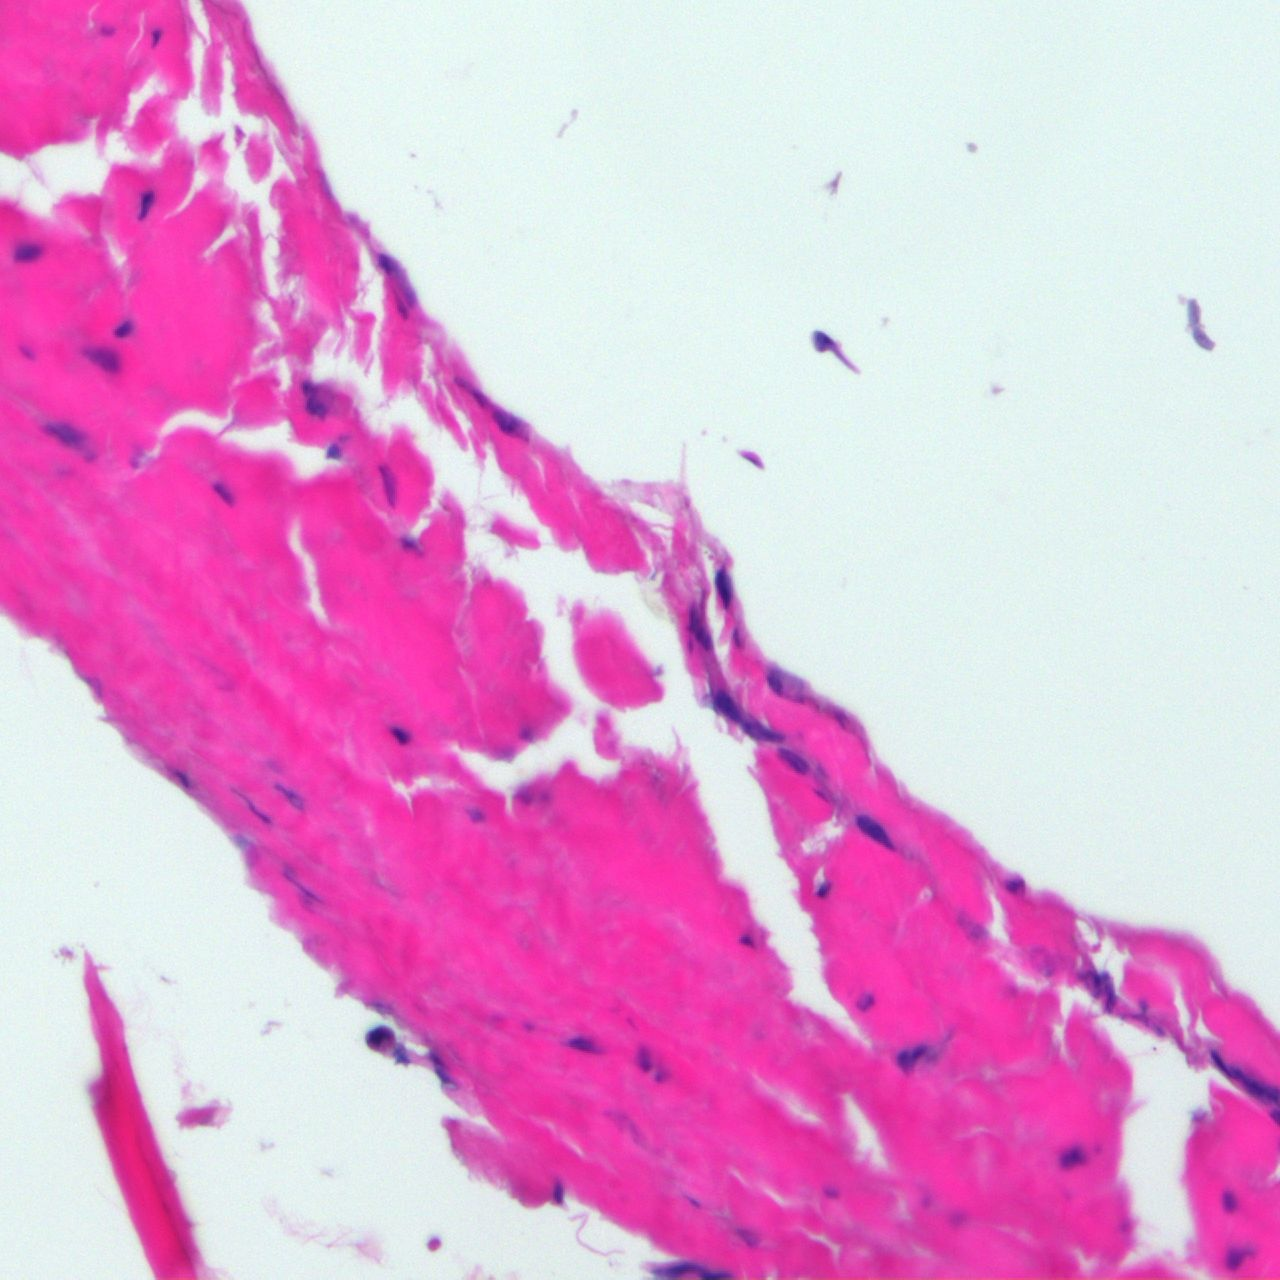nucleus-HE: (35, 409, 103, 470), (891, 1033, 937, 1077), (850, 810, 898, 852), (678, 601, 716, 652), (705, 687, 749, 728), (230, 786, 272, 828), (448, 372, 493, 411), (772, 740, 814, 779), (647, 1261, 732, 1279), (486, 404, 526, 442), (727, 1219, 765, 1254), (557, 1030, 604, 1057), (269, 778, 307, 811), (80, 343, 118, 373), (129, 184, 158, 223), (375, 458, 395, 509), (1223, 1244, 1257, 1272), (301, 380, 326, 417), (207, 478, 236, 509), (1056, 1142, 1088, 1170), (1207, 1047, 1233, 1080), (1239, 1075, 1272, 1101), (168, 762, 194, 791), (714, 565, 730, 608), (110, 315, 136, 340), (1078, 968, 1100, 997), (1100, 970, 1114, 1012), (634, 1041, 652, 1072), (366, 1027, 392, 1048), (13, 242, 40, 262), (434, 1066, 456, 1089), (387, 723, 411, 744), (945, 1209, 969, 1230), (1001, 873, 1023, 895), (375, 252, 395, 276), (765, 665, 782, 693), (399, 535, 422, 555), (1220, 1188, 1238, 1213), (854, 992, 875, 1013), (18, 338, 35, 360), (737, 931, 755, 951), (682, 1192, 703, 1209), (393, 1044, 409, 1065), (465, 806, 483, 824), (517, 722, 535, 740), (814, 880, 831, 897), (655, 1068, 672, 1085), (820, 1185, 838, 1200), (325, 443, 341, 459), (732, 624, 742, 648), (553, 1179, 562, 1204), (150, 27, 161, 47), (1130, 1014, 1150, 1024), (430, 1051, 444, 1065), (520, 1020, 534, 1034), (1139, 997, 1148, 1011)
